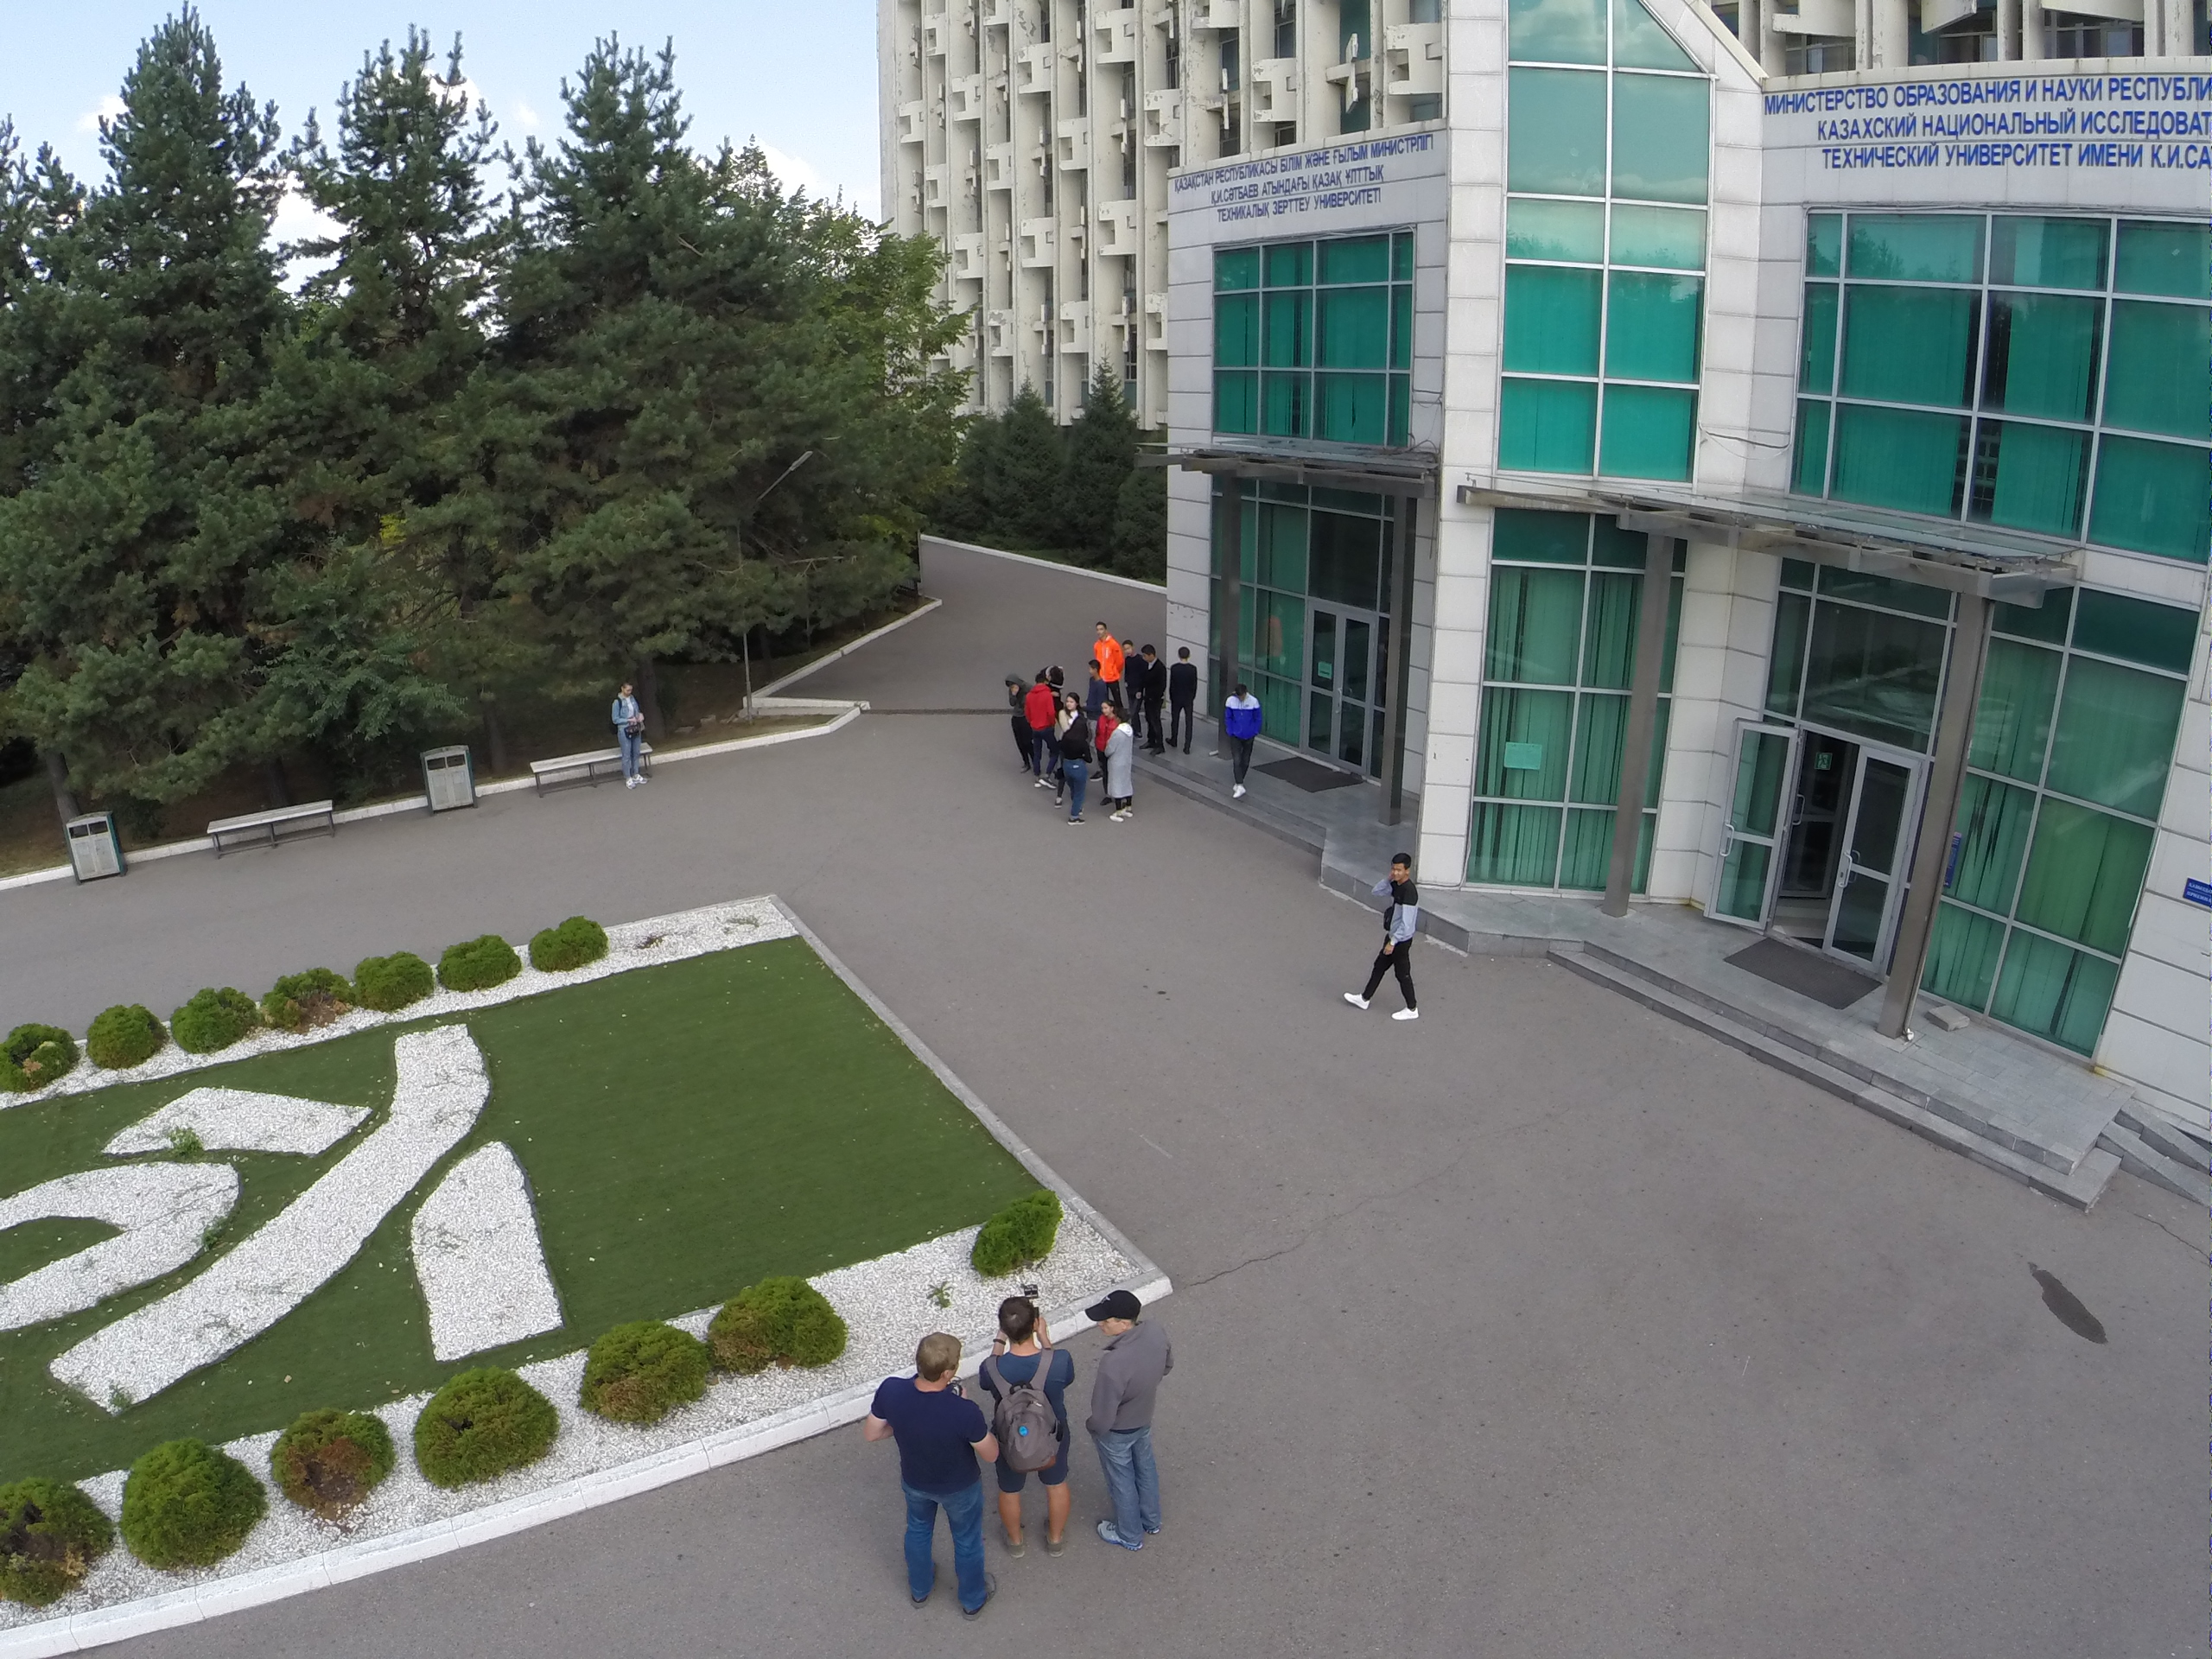person: (865, 1325, 996, 1621), (980, 1296, 1081, 1558), (1076, 1289, 1174, 1558), (1346, 853, 1422, 1023), (1222, 683, 1260, 800), (612, 680, 648, 791), (1063, 717, 1091, 829), (1108, 710, 1135, 823), (1169, 645, 1197, 755), (1141, 645, 1166, 755), (1030, 675, 1050, 797), (1003, 675, 1028, 776), (1122, 643, 1143, 715), (1090, 622, 1119, 667), (1084, 659, 1103, 709), (1055, 691, 1084, 724), (1098, 697, 1116, 747)
